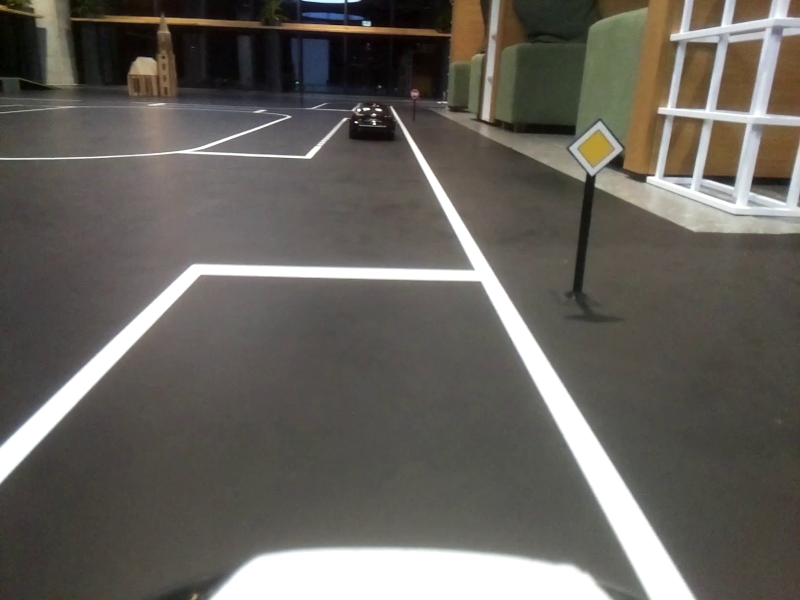priority: (563, 116, 624, 175)
